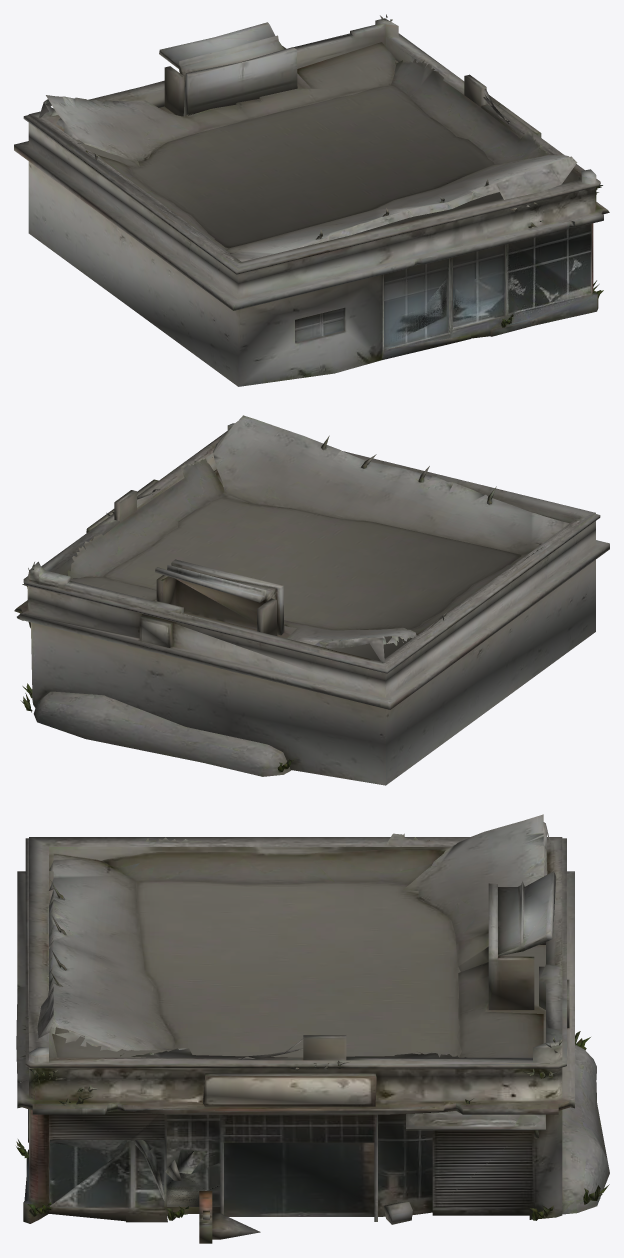
The model's file is abandoned_supermarket.glb.
3 views of the same model, one above another, from view 1: azimuth 30°, elevation 25°; view 2: azimuth 150°, elevation 25°; view 3: azimuth 270°, elevation 25° (orthographic). The views are drawn at different scales.
Visible parts, largest first — view 1: tripo_node_11e678f6-a5f5-4c62-8b25-f80b26ffdd9c; view 2: tripo_node_11e678f6-a5f5-4c62-8b25-f80b26ffdd9c; view 3: tripo_node_11e678f6-a5f5-4c62-8b25-f80b26ffdd9c.
Part boxes in pixels (box(x1,y1,x2,y2)): tripo_node_11e678f6-a5f5-4c62-8b25-f80b26ffdd9c: box(14, 14, 609, 386); tripo_node_11e678f6-a5f5-4c62-8b25-f80b26ffdd9c: box(14, 415, 609, 785); tripo_node_11e678f6-a5f5-4c62-8b25-f80b26ffdd9c: box(16, 814, 609, 1243).
Size of the model in its own units: 0.998 by 0.3965 by 0.998.
Materials: 1 (1 with a texture image).
